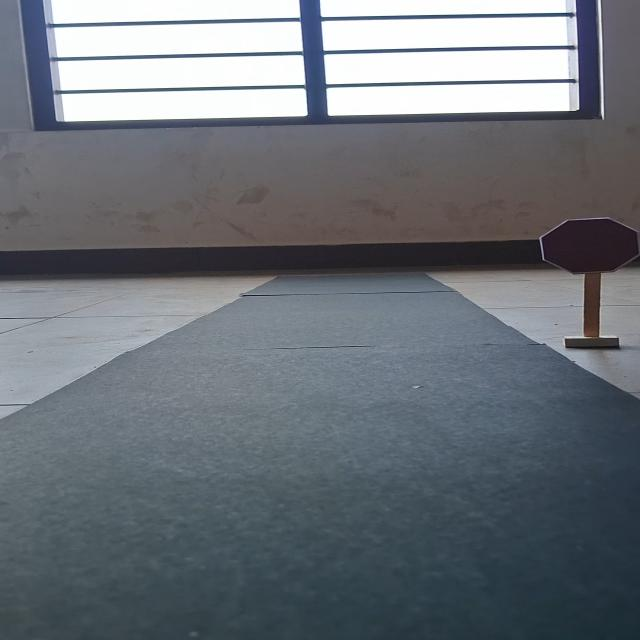Stop: (537, 217, 640, 275)
